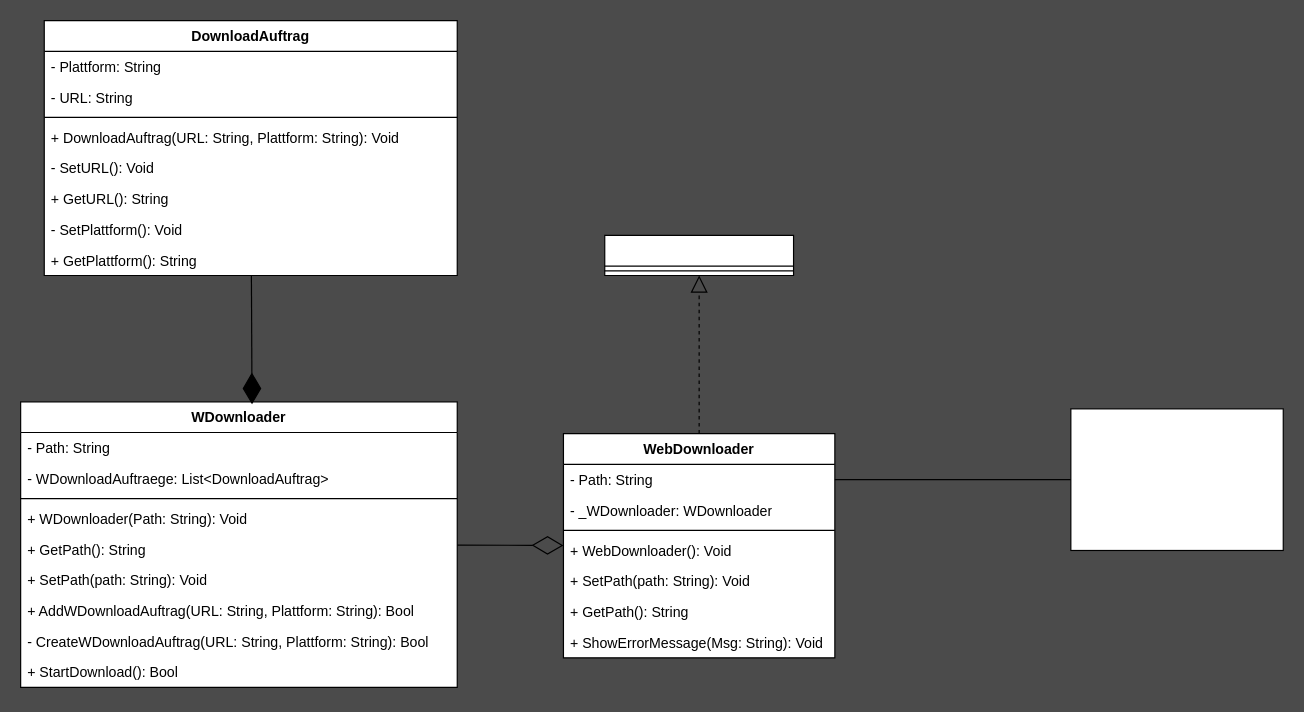
The diagram is 1304 pixels wide and 712 high, and some of its shapes have lost their labels. Each missing label, with the centre of its shape:
Form: the point at 699,255
Path The Path has an Default Value Directing to Documents folder.: the point at 1176,479
